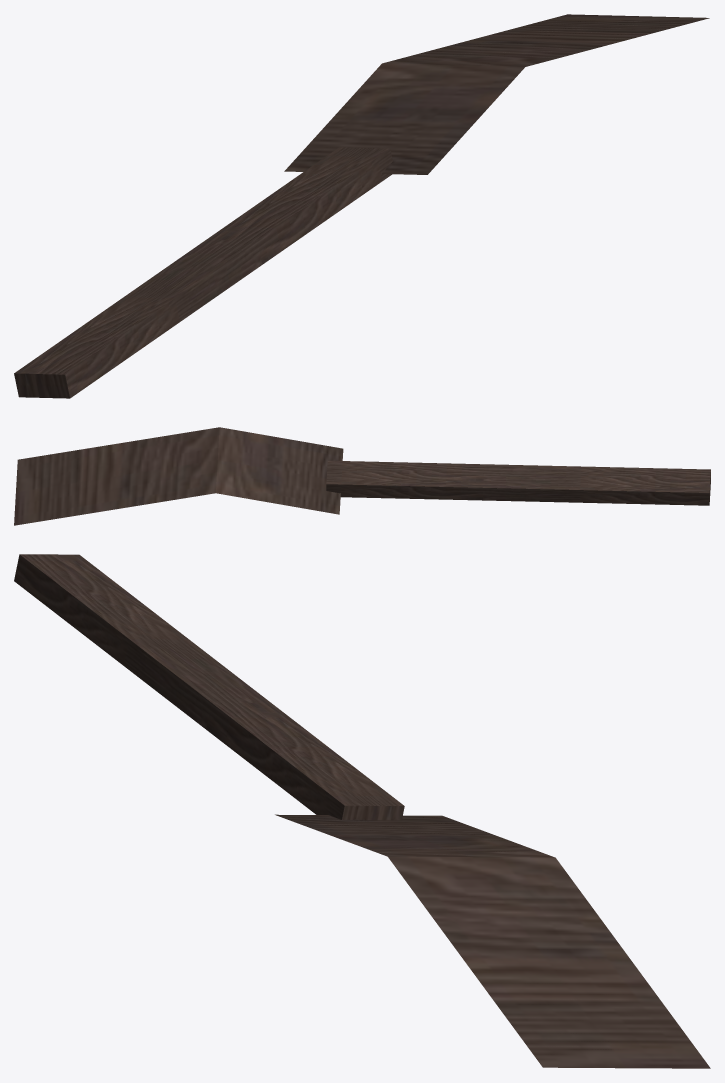
3 views of the same model, one above another, from view 1: azimuth 30°, elevation 25°; view 2: azimuth 150°, elevation 25°; view 3: azimuth 270°, elevation 25° (orthographic). The views are drawn at different scales.
Parts seen in each view (by area): view 1: Cube074_Cutlery001_0; view 2: Cube074_Cutlery001_0; view 3: Cube074_Cutlery001_0.
Part boxes in pixels (x1,y1,x2,y2): Cube074_Cutlery001_0: (14,14,709,398); Cube074_Cutlery001_0: (14,427,710,525); Cube074_Cutlery001_0: (14,554,710,1068).
Bounding box in the file's own units: 0.2581 × 0.0268 × 0.1535.
Materials: 1 (1 with a texture image).
